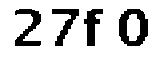0: (114, 6, 150, 53)
2: (10, 6, 44, 51)
7: (47, 2, 81, 49)
f: (84, 5, 105, 55)
